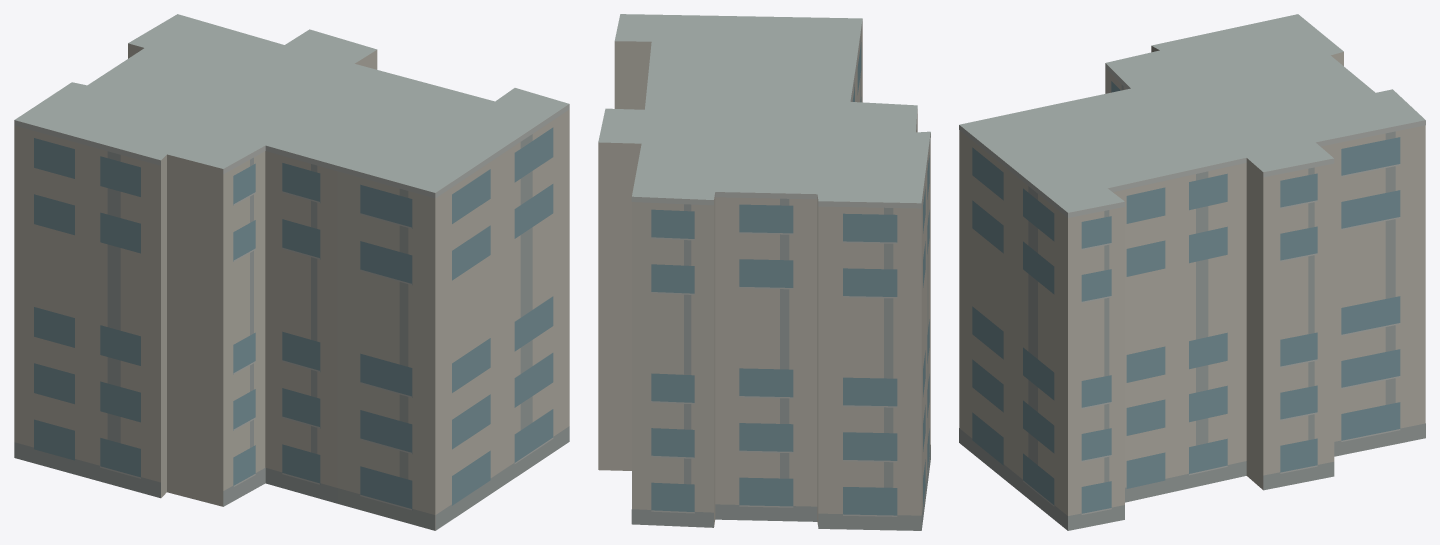
The model's file is survey-upis-32891456.glb.
3 renders of one model, left to right at view 1: azimuth 30°, elevation 25°; view 2: azimuth 150°, elevation 25°; view 3: azimuth 270°, elevation 25°, orthographic. The views are drawn at different scales.
Parts seen in each view (by area): view 1: survey-upis-32891456.tmp; view 2: survey-upis-32891456.tmp; view 3: survey-upis-32891456.tmp.
Boxes of the visible parts, x1,y1,x2,y2 form: survey-upis-32891456.tmp: (14,14,569,530); survey-upis-32891456.tmp: (598,14,930,530); survey-upis-32891456.tmp: (959,14,1425,530).
Bounding box in the file's own units: 20.12 × 15 × 19.96.
